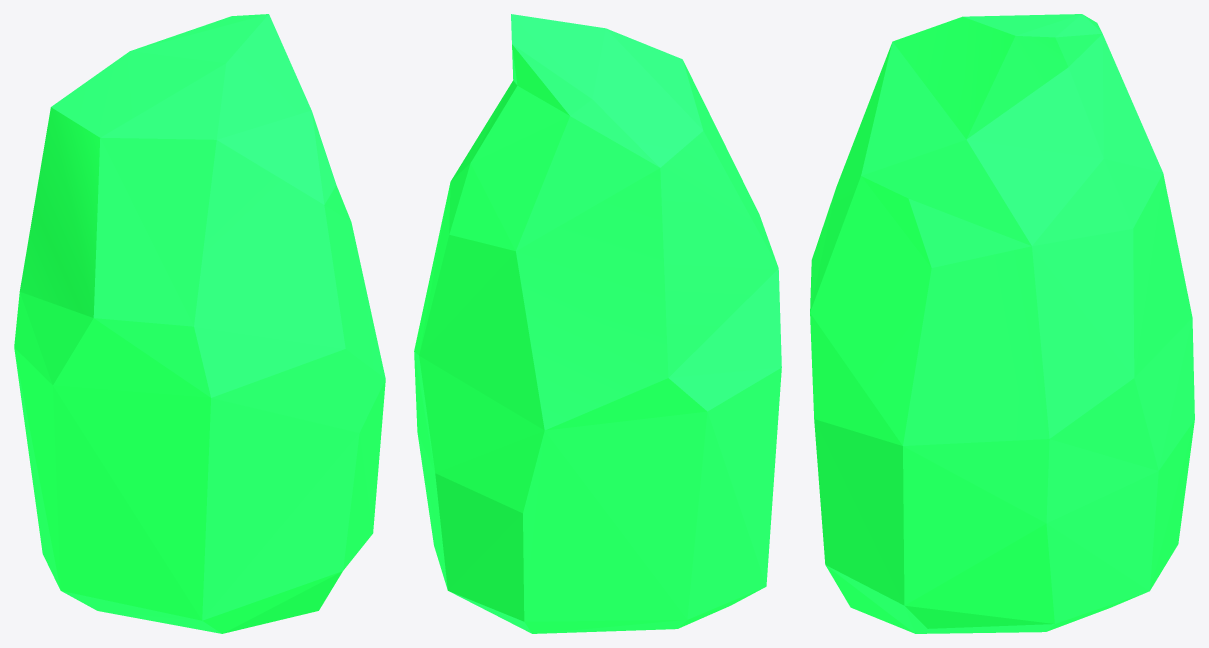
The model's file is Kristal.fbx.
3 views of the same model, side by side, from view 1: azimuth 30°, elevation 25°; view 2: azimuth 150°, elevation 25°; view 3: azimuth 270°, elevation 25° (orthographic). The views are drawn at different scales.
Parts seen in each view (by area): view 1: crystal_low; view 2: crystal_low; view 3: crystal_low.
Part boxes in pixels (x1,y1,x2,y2): crystal_low: [14, 14, 385, 633]; crystal_low: [414, 14, 781, 633]; crystal_low: [810, 14, 1194, 633].
Size of the model in its own units: 815 by 1327 by 788.
